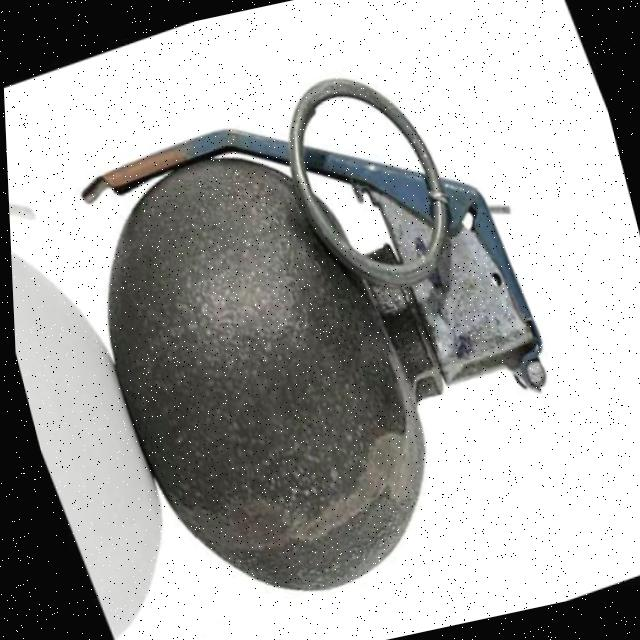grenade: (8, 8, 617, 638)
